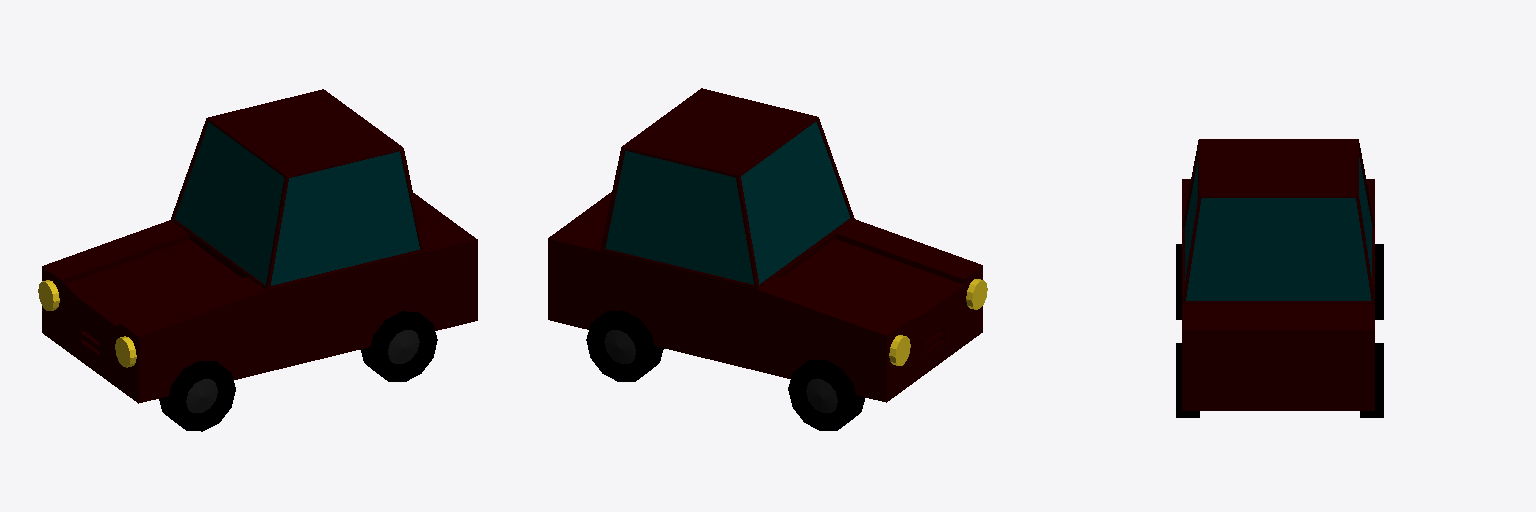
Rendered from Auto.obj.
3 views of the same model, side by side, from view 1: azimuth 30°, elevation 25°; view 2: azimuth 150°, elevation 25°; view 3: azimuth 270°, elevation 25° (orthographic).
Visible parts, largest first — view 1: pCylinder8; view 2: pCylinder8; view 3: pCylinder8.
Part boxes in pixels (x1,y1,x2,y2): pCylinder8: (38,89,477,431); pCylinder8: (548,88,987,430); pCylinder8: (1176,139,1383,417).
Bounding box in the file's own units: 15.12 × 9.36 × 7.92.